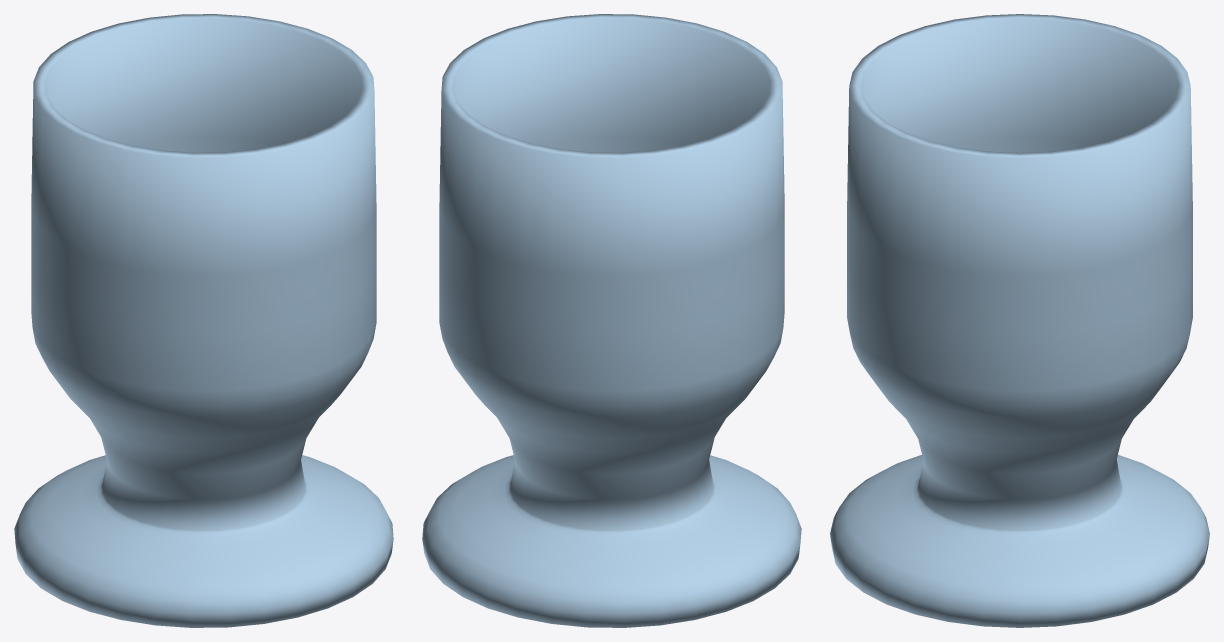
File: Copo.fbx
3 views of the same model, side by side, from view 1: azimuth 30°, elevation 25°; view 2: azimuth 150°, elevation 25°; view 3: azimuth 270°, elevation 25° (orthographic).
Parts seen in each view (by area): view 1: Cylinder.035; view 2: Cylinder.035; view 3: Cylinder.035.
Boxes of the visible parts, x1=… form: Cylinder.035: x1=14, y1=14, x2=393, y2=627; Cylinder.035: x1=422, y1=14, x2=801, y2=627; Cylinder.035: x1=830, y1=14, x2=1209, y2=627.
Bounding box in the file's own units: 198 × 266 × 198.
